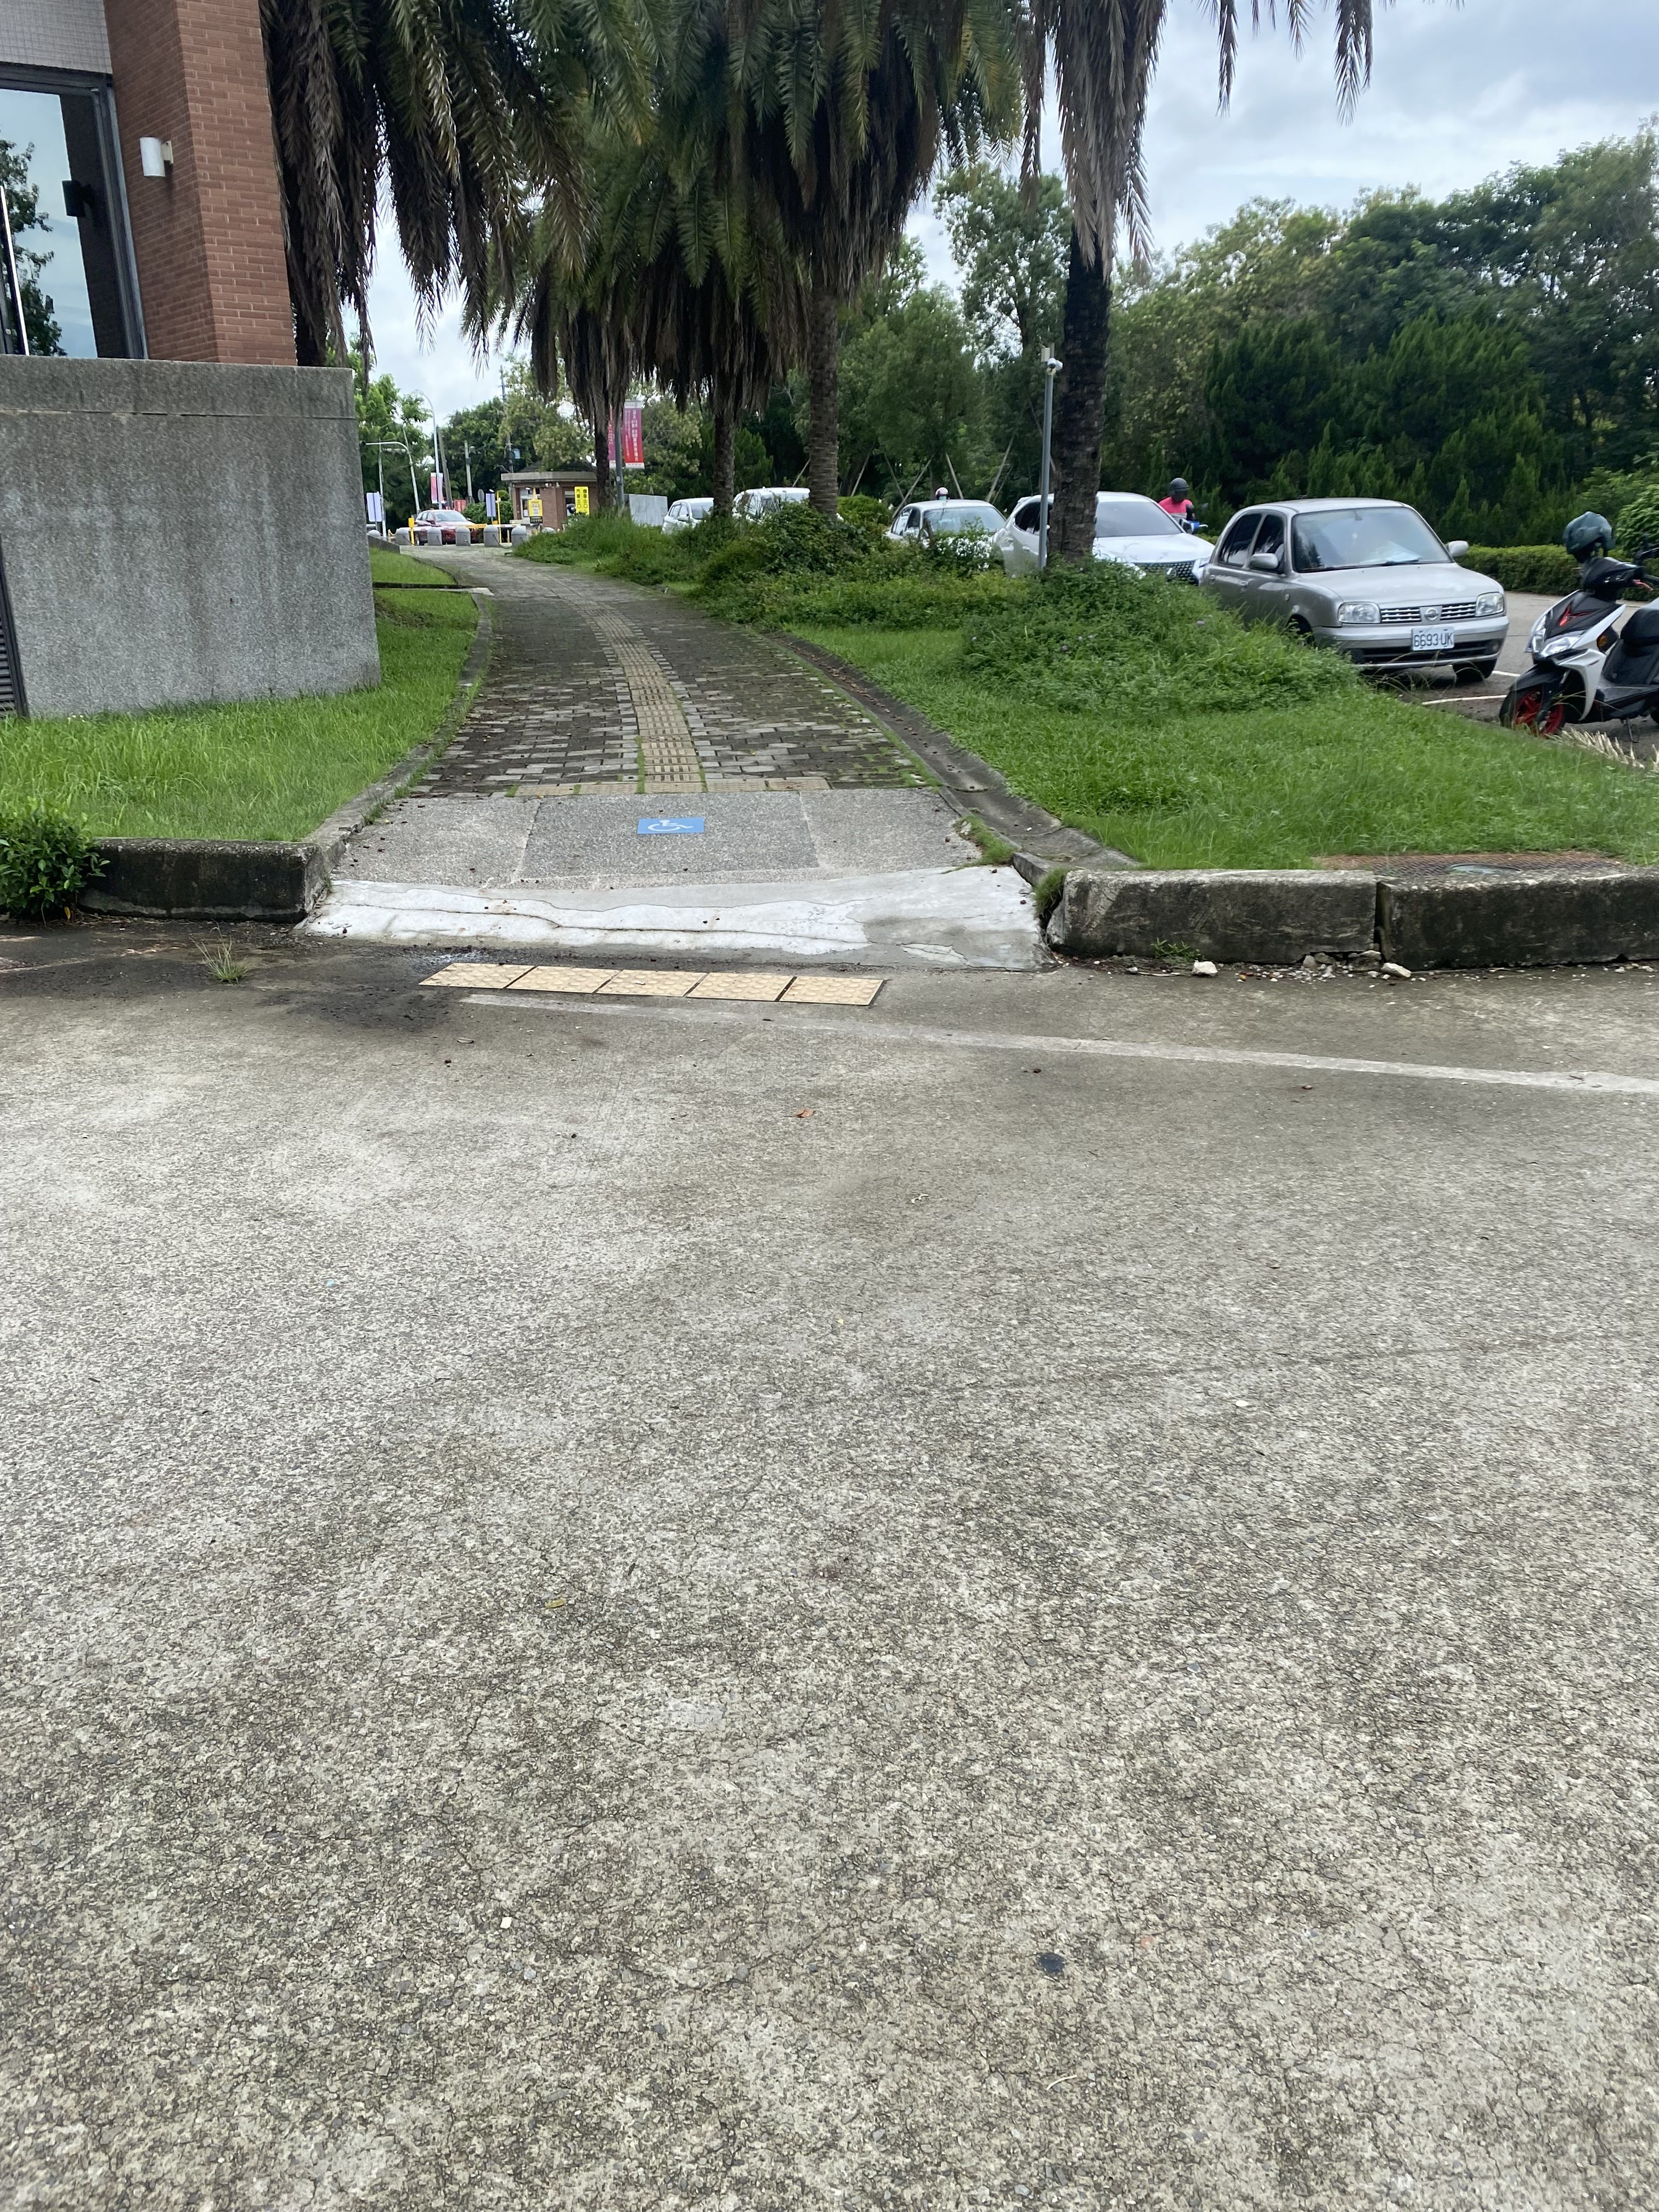sidewalk: (378, 535, 1091, 1062)
